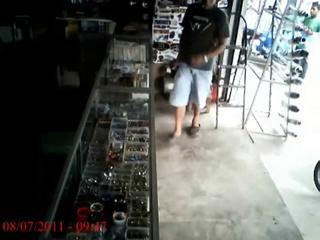Normal: (300, 2, 320, 35)
shoplifting: (167, 1, 230, 138)
